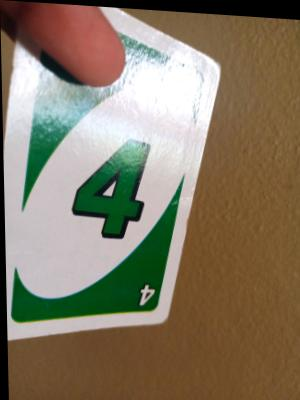green: (32, 81, 166, 314)
num_4: (131, 278, 158, 309)
